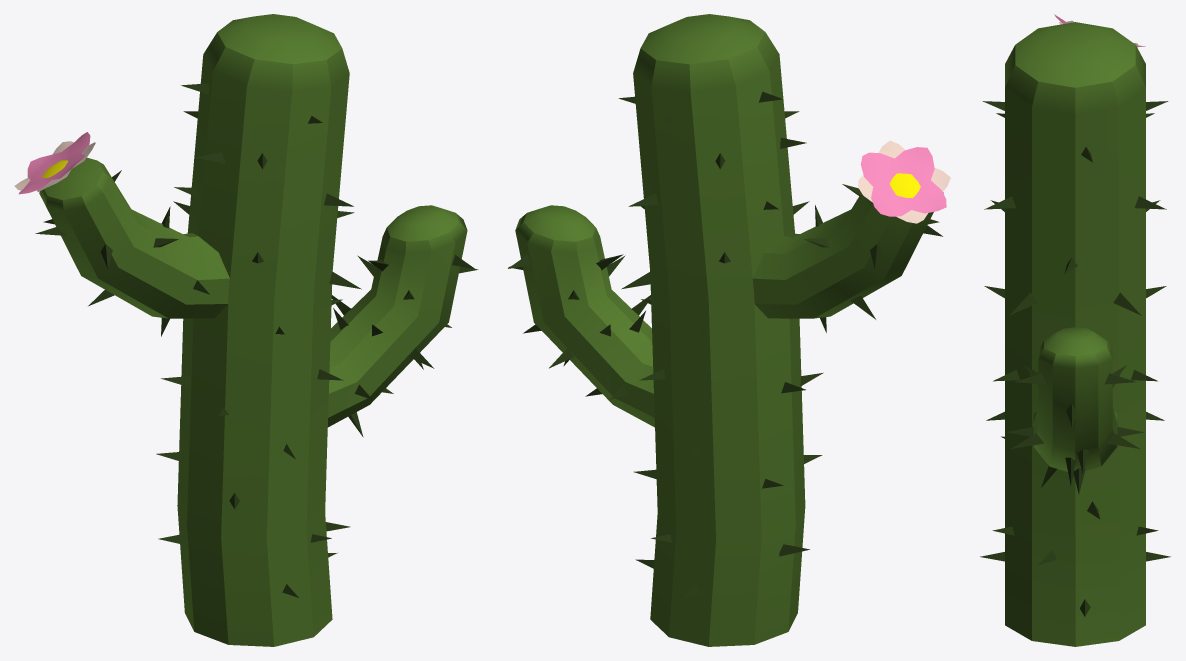
The model's file is TwoArmedCactusWithFlower.fbx.
3 renders of one model, left to right at view 1: azimuth 30°, elevation 25°; view 2: azimuth 150°, elevation 25°; view 3: azimuth 270°, elevation 25°, orthographic.
Visible parts, largest first — view 1: TwoArmedCactusWithFlower; view 2: TwoArmedCactusWithFlower; view 3: TwoArmedCactusWithFlower.
Boxes of the visible parts, x1,y1,x2,y2 form: TwoArmedCactusWithFlower: [14, 14, 478, 646]; TwoArmedCactusWithFlower: [508, 14, 950, 646]; TwoArmedCactusWithFlower: [980, 14, 1170, 646].
Bounding box in the file's own units: 10.39 × 12.95 × 3.85.
